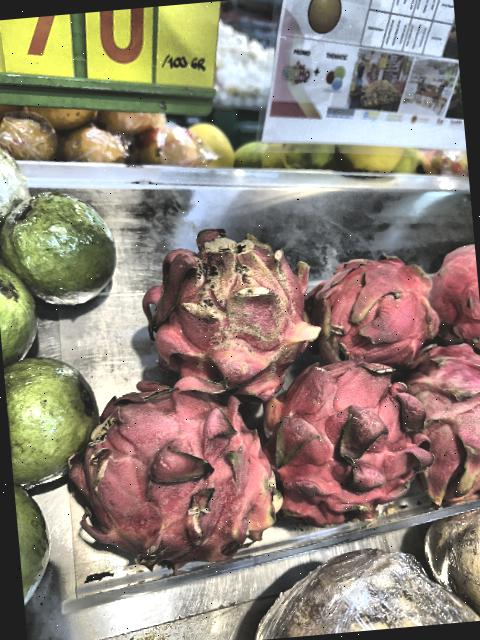buah-naga-belum-matang: (388, 325, 480, 499)
buah-naga-matang: (69, 366, 274, 571), (257, 340, 427, 545), (132, 214, 319, 396), (296, 229, 440, 367), (419, 227, 480, 354)
